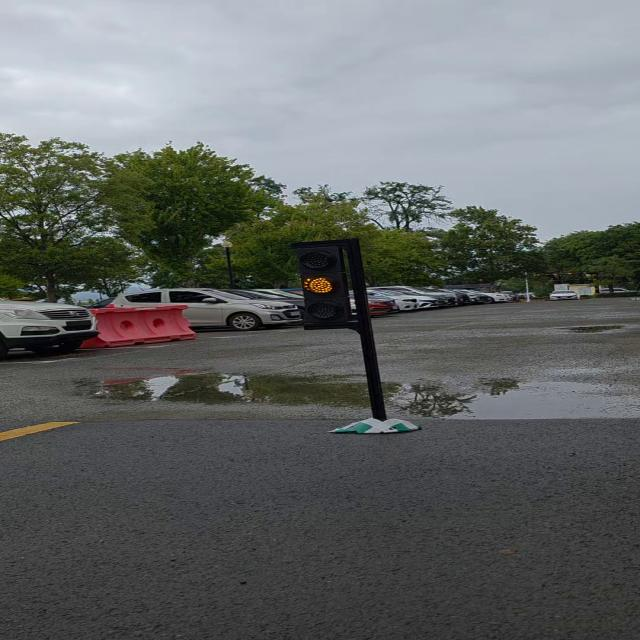yellow: (286, 235, 370, 337)
